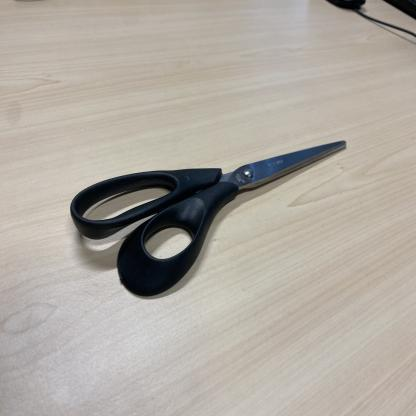scissors: (70, 140, 348, 300)
